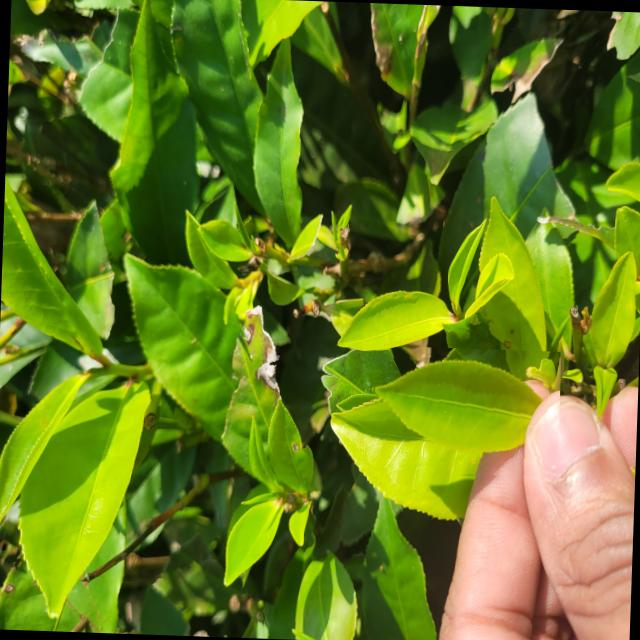Catagory A(1-2 days): (367, 344, 561, 482)
